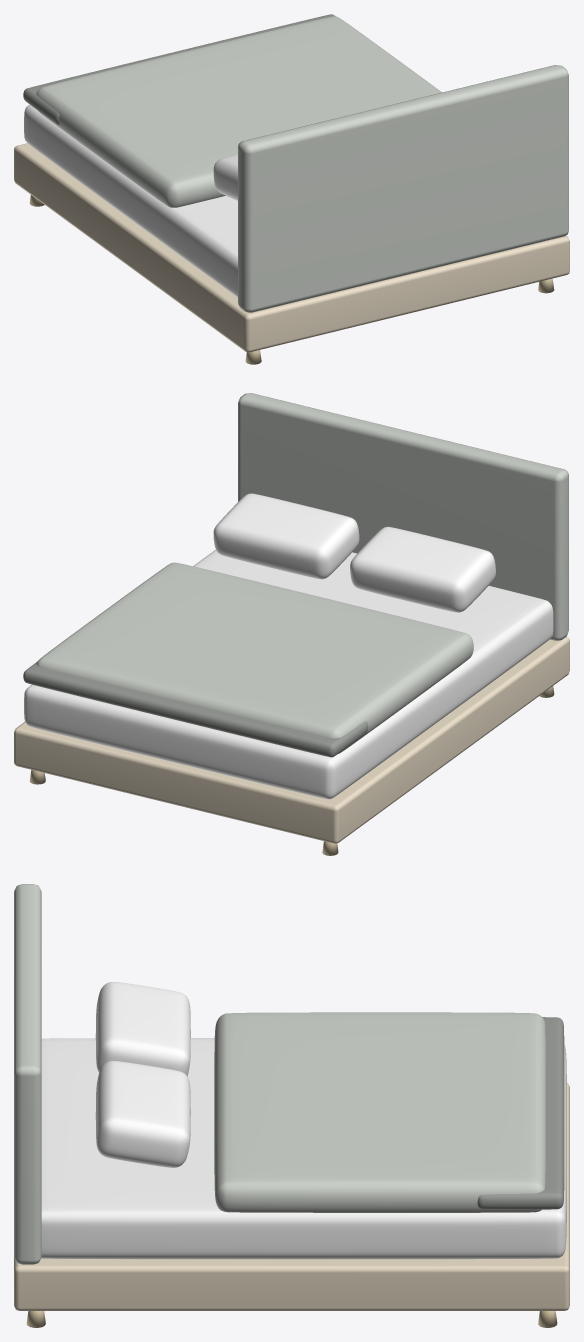
File: bed.glb
3 renders of one model, top to bottom at view 1: azimuth 30°, elevation 25°; view 2: azimuth 150°, elevation 25°; view 3: azimuth 270°, elevation 25°, orthographic. The views are drawn at different scales.
Parts seen in each view (by area): view 1: leg; view 2: leg; view 3: leg.
Boxes of the visible parts, <box> form: leg: <box>14,14,569,364</box>; leg: <box>14,393,569,855</box>; leg: <box>14,884,569,1327</box>.
Size of the model in its own units: 1.6 by 1.05 by 2.
